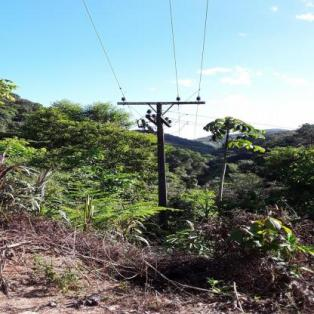Poste: (149, 99, 170, 226)
